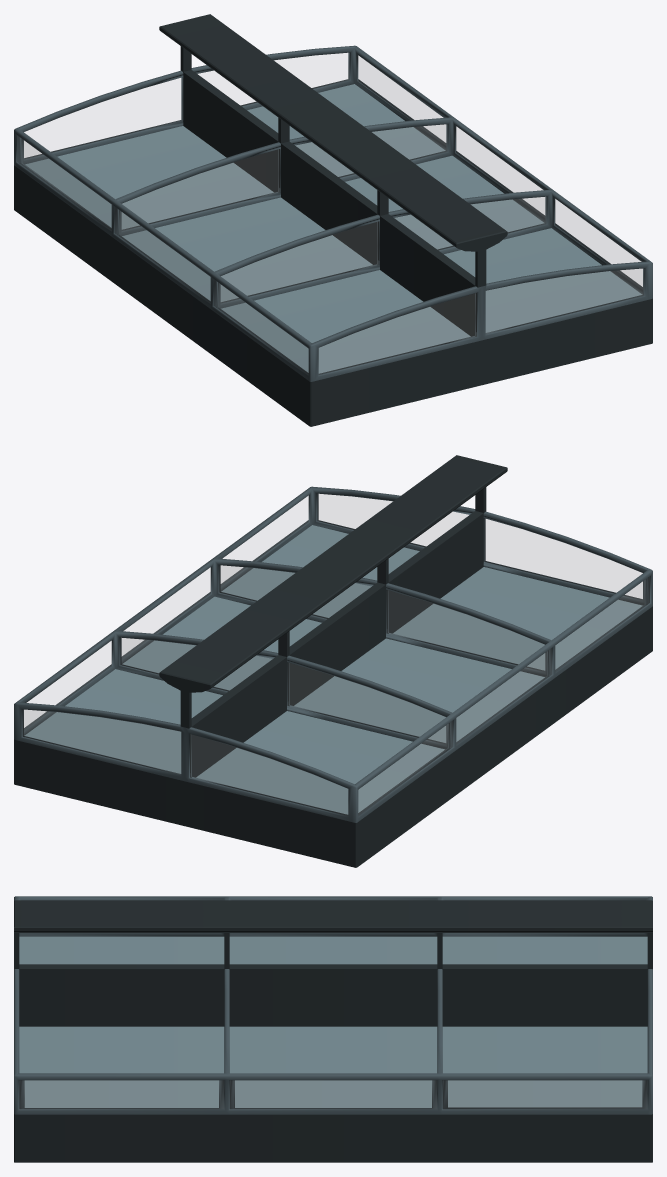
Rendered from Freezer_Bin_col.glb.
3 renders of one model, top to bottom at view 1: azimuth 30°, elevation 25°; view 2: azimuth 150°, elevation 25°; view 3: azimuth 270°, elevation 25°, orthographic. The views are drawn at different scales.
Parts seen in each view (by area): view 1: Freezer_Bin_col; view 2: Freezer_Bin_col; view 3: Freezer_Bin_col.
Part boxes in pixels (left/top/right/bottom): Freezer_Bin_col: left=14, top=14, right=652, bottom=426; Freezer_Bin_col: left=14, top=455, right=652, bottom=867; Freezer_Bin_col: left=14, top=896, right=652, bottom=1162.
Size of the model in its own units: 4 by 1.65 by 6.
2 materials, 1 textured.
